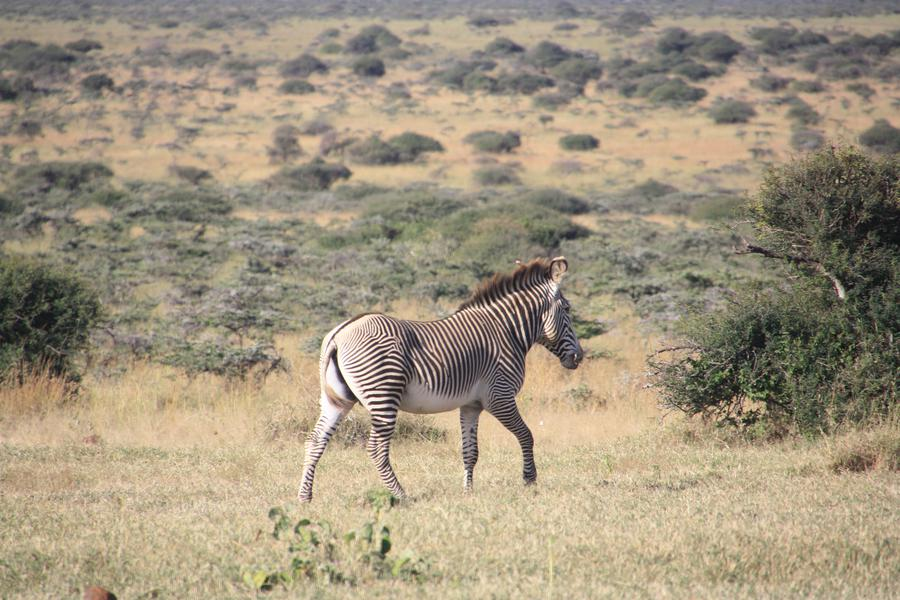zebra_grevys: (331, 314, 516, 402)
